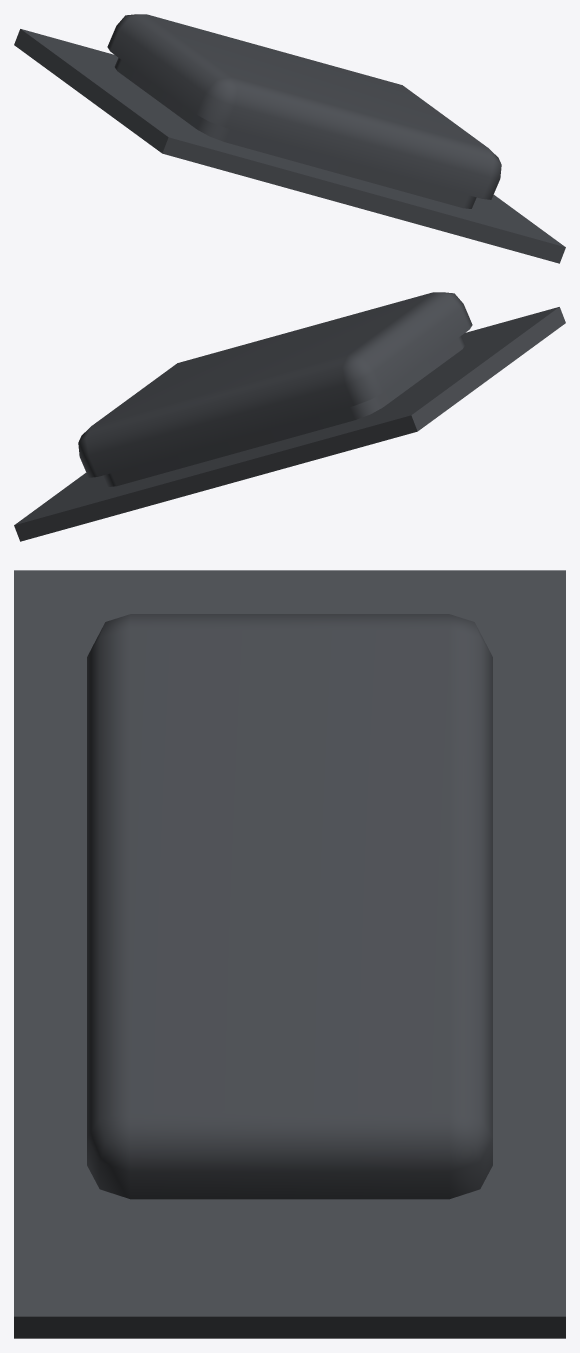
Rendered from SM_House_Roof_Details_02.obj.
The picture shows the model from 3 angles, top to bottom: view 1: azimuth 30°, elevation 25°; view 2: azimuth 150°, elevation 25°; view 3: azimuth 270°, elevation 25°; orthographic projection. The views are drawn at different scales.
Visible parts, largest first — view 1: SM_House_Roof_Details_02_Mat_SwatchOverlay_PolygonTown_01_Inst; view 2: SM_House_Roof_Details_02_Mat_SwatchOverlay_PolygonTown_01_Inst; view 3: SM_House_Roof_Details_02_Mat_SwatchOverlay_PolygonTown_01_Inst.
Boxes of the visible parts, x1,y1,x2,y2 form: SM_House_Roof_Details_02_Mat_SwatchOverlay_PolygonTown_01_Inst: (14, 14, 565, 263); SM_House_Roof_Details_02_Mat_SwatchOverlay_PolygonTown_01_Inst: (14, 292, 565, 541); SM_House_Roof_Details_02_Mat_SwatchOverlay_PolygonTown_01_Inst: (14, 570, 565, 1338).
Size of the model in its own units: 3.3 by 1.85 by 2.1.
1 material, 1 textured.
